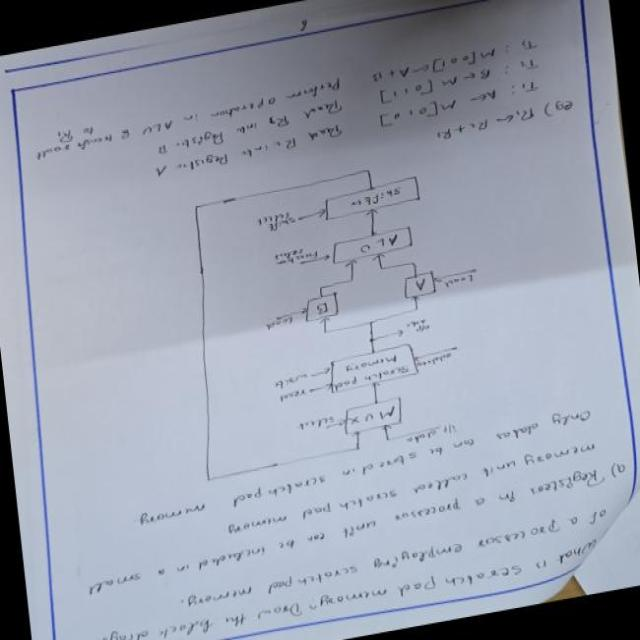Figure Detection - v3 Dataset Version2: (167, 143, 505, 494)
